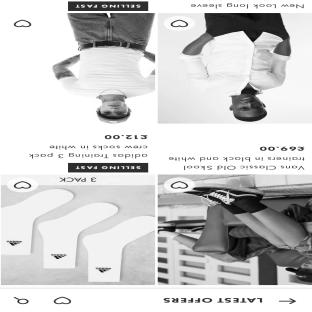Face cap: (91, 113, 129, 126)
Man: (179, 14, 296, 123)
Search Icon: (13, 294, 30, 305)
Sneakers: (185, 183, 262, 202)
cancel icon: (276, 296, 308, 307)
love icon: (166, 179, 192, 196), (168, 19, 192, 30), (51, 295, 71, 307), (10, 180, 34, 190)
socks: (36, 202, 120, 269), (3, 187, 79, 256), (81, 216, 152, 281), (83, 206, 84, 271)
